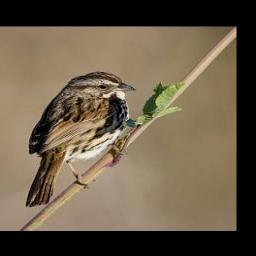Sparrow: (24, 69, 139, 208)
